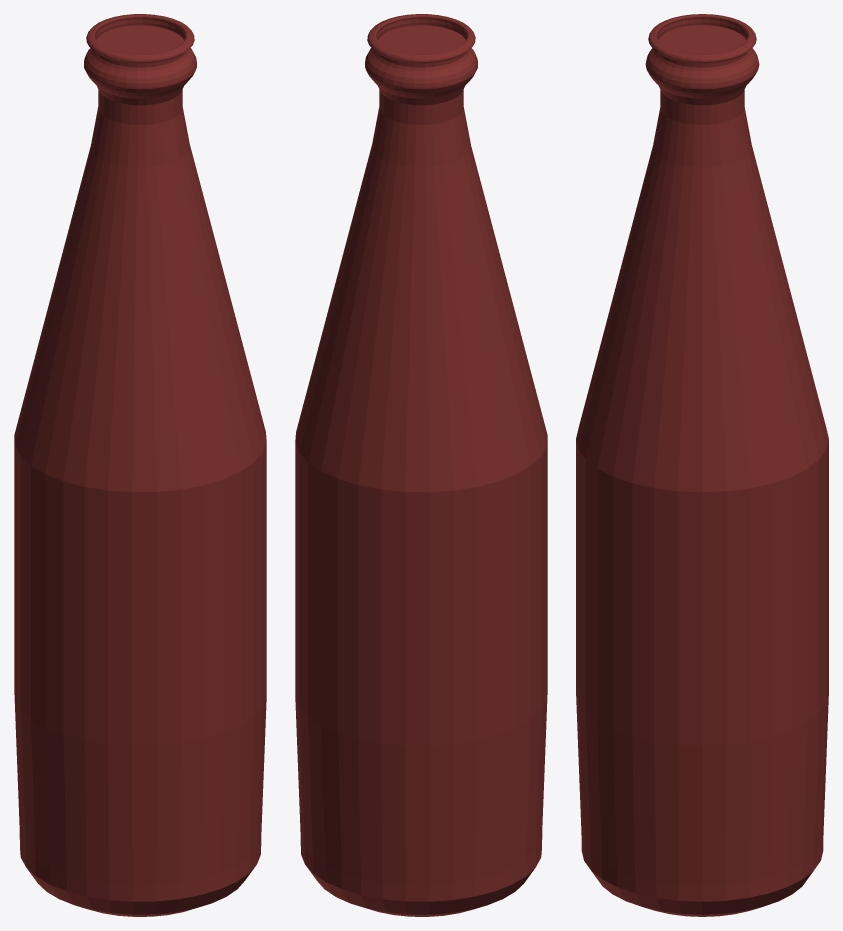
Rendered from bottle.glb.
3 views of the same model, side by side, from view 1: azimuth 30°, elevation 25°; view 2: azimuth 150°, elevation 25°; view 3: azimuth 270°, elevation 25° (orthographic).
Visible parts, largest first — view 1: Cylinder; view 2: Cylinder; view 3: Cylinder.
Part boxes in pixels (bbox=[...]): Cylinder: bbox=[14, 14, 266, 916]; Cylinder: bbox=[295, 14, 547, 916]; Cylinder: bbox=[576, 14, 828, 916].
Bounding box in the file's own units: 1.1 × 4.12 × 1.1.
1 material, 1 textured.
